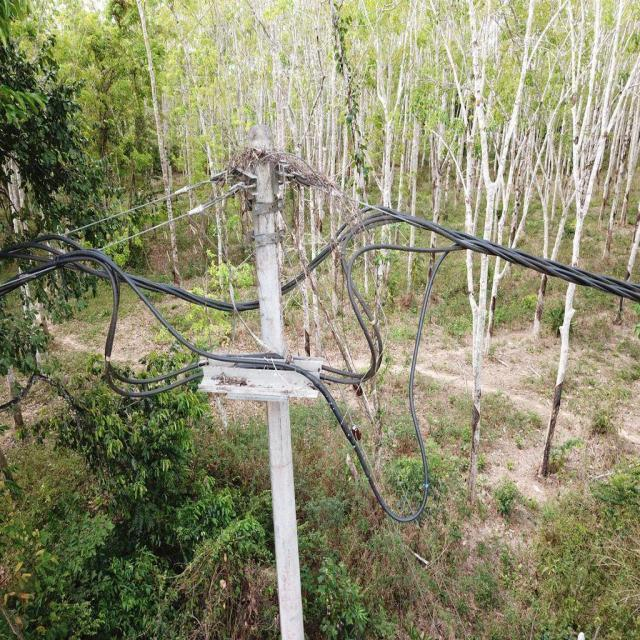critical vegetation: (217, 133, 380, 401)
